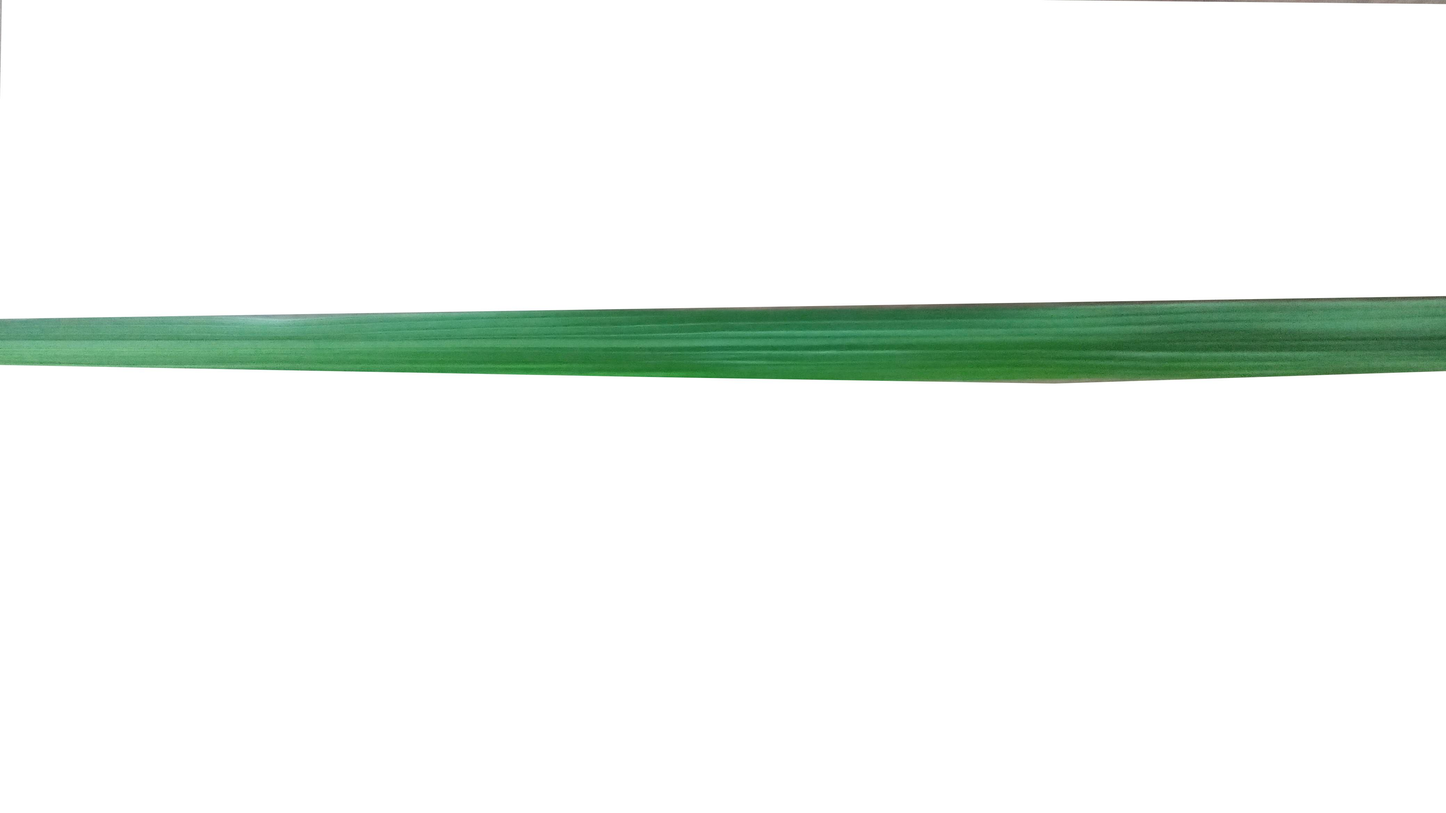Healthy: (0, 293, 1446, 374)
